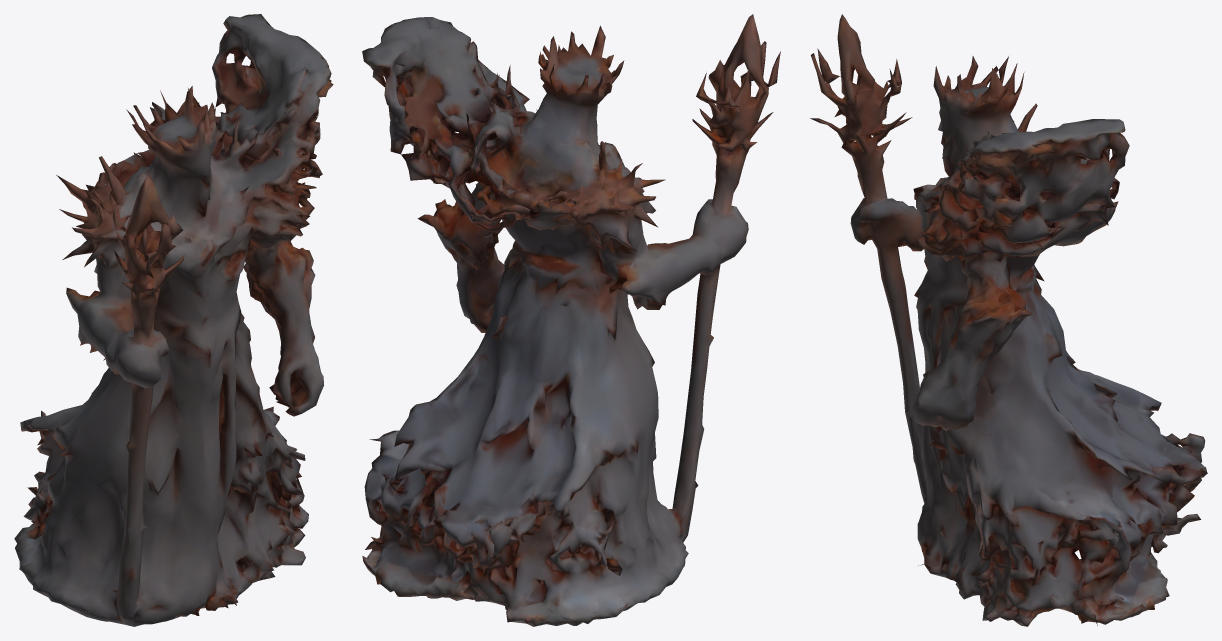
Rendered from frostfire_magus.glb.
3 views of the same model, side by side, from view 1: azimuth 30°, elevation 25°; view 2: azimuth 150°, elevation 25°; view 3: azimuth 270°, elevation 25° (orthographic). The views are drawn at different scales.
Bounding box in the file's own units: 1.17 × 2 × 1.44.
1 material, 1 textured.
